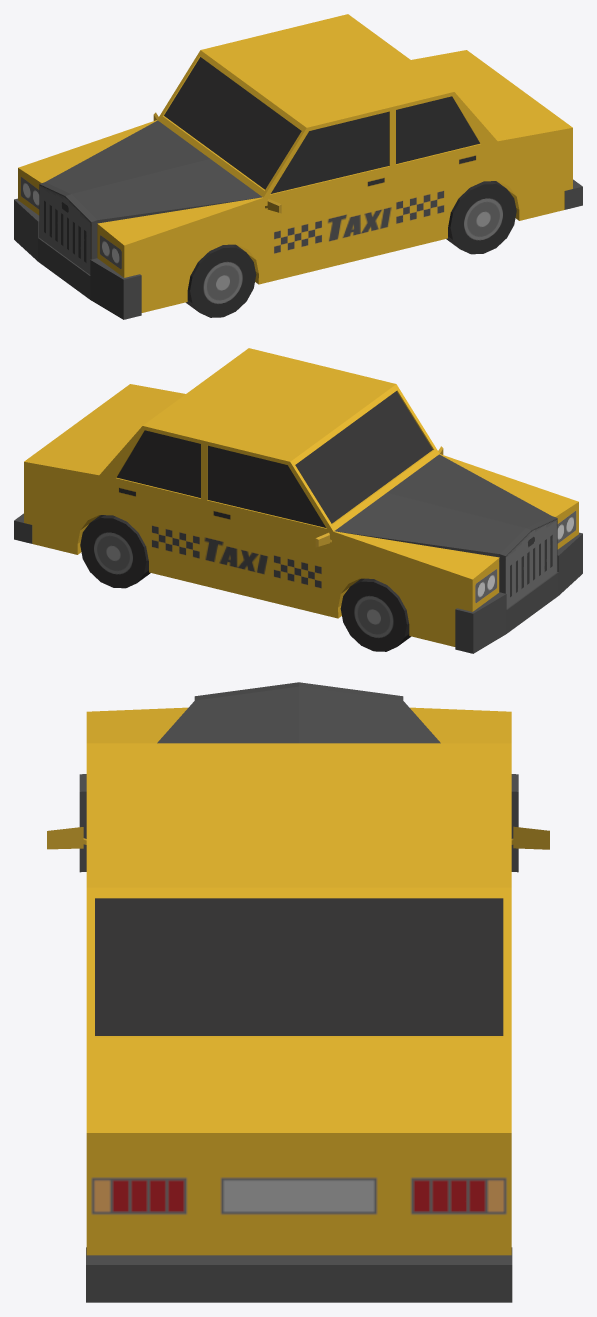
The model's file is car_4.glb.
The picture shows the model from 3 angles, top to bottom: view 1: azimuth 30°, elevation 25°; view 2: azimuth 150°, elevation 25°; view 3: azimuth 270°, elevation 25°; orthographic projection. The views are drawn at different scales.
Parts seen in each view (by area): view 1: Vehicle_Car_color02.002; view 2: Vehicle_Car_color02.002; view 3: Vehicle_Car_color02.002.
Part boxes in pixels (bbox=[...]): Vehicle_Car_color02.002: bbox=[14, 14, 582, 319]; Vehicle_Car_color02.002: bbox=[14, 348, 582, 653]; Vehicle_Car_color02.002: bbox=[47, 682, 549, 1302].
Size of the model in its own units: 6.32 by 2.2 by 2.96.
Materials: 1 (1 with a texture image).
